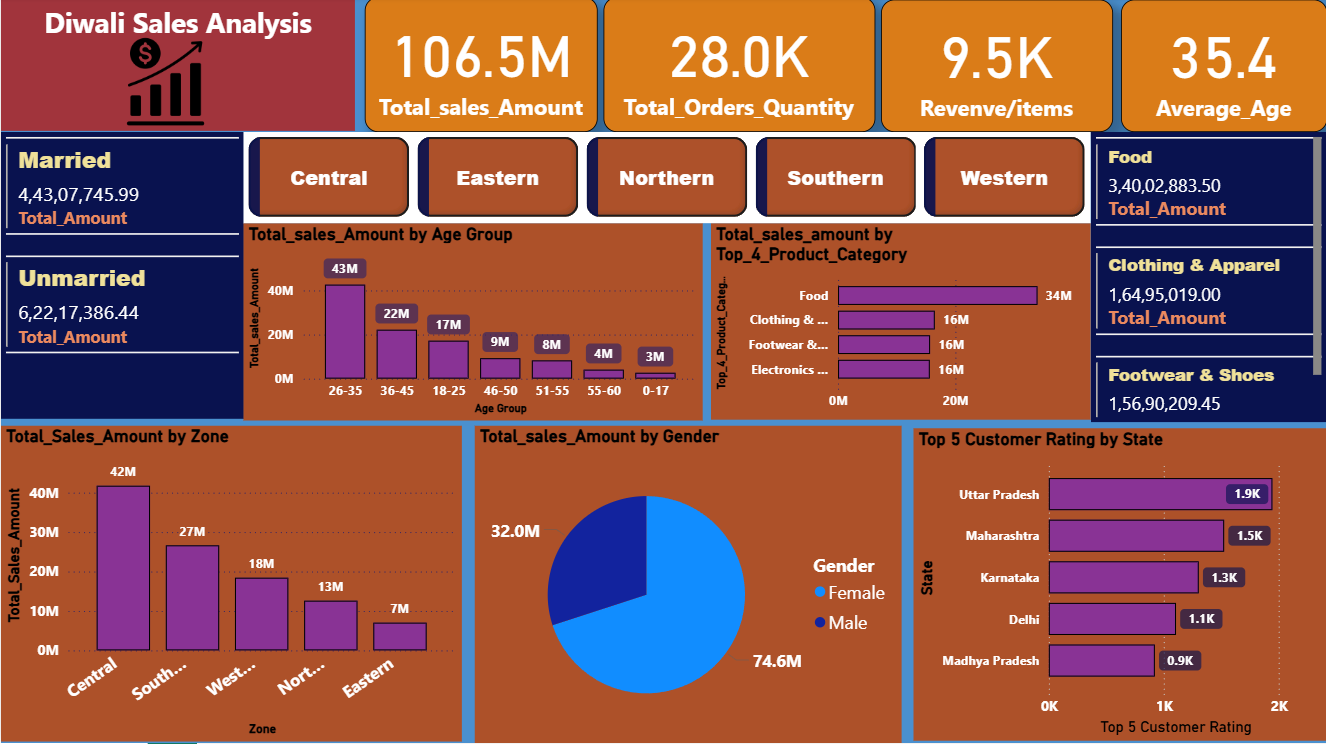

The dashboard page shown, as its layout file describes it:
{"tool":"powerbi","page":{"name":"Dewali Sales Analysis","canvas":[1280,720],"ordinal":0},"visuals":[{"type":"group","id":"g1","title":"Group 1","box":[351,0,721.8,130.4],"z":0},{"type":"card","fields":{"Values":["Sum(Diwali Sales Data.Amount)"]},"box":[351,0,225,130.4],"z":0,"group":"g1"},{"type":"clusteredBarChart","fields":{"Category":["Diwali Sales Data.State"],"Y":["CountNonNull(Diwali Sales Data.Customer Rating)"]},"box":[881,416.8,399.3,301.9],"z":0,"group":"g2"},{"type":"card","fields":{"Values":["Sum(Diwali Sales Data.Orders Quantity)"]},"box":[581.6,0,262.1,130.4],"z":1000,"group":"g1"},{"type":"card","fields":{"Values":["Avg(Diwali Sales Data.Age)"]},"box":[1081.3,2.7,199,127.6],"z":1000},{"type":"pieChart","fields":{"Category":["Diwali Sales Data.Gender"],"Y":["Sum(Diwali Sales Data.Amount)"]},"box":[456.9,414.1,411.7,307.4],"z":1000,"group":"g2"},{"type":"card","fields":{"Values":["Diwali Sales Data.Revenve/items"]},"box":[849.2,2.7,223.7,127.6],"z":2000,"group":"g1"},{"type":"group","id":"g2","title":"Group 2","box":[0,414.1,1280.3,307.4],"z":2000},{"type":"columnChart","fields":{"Category":["Diwali Sales Data.Zone"],"Y":["Sum(Diwali Sales Data.Amount)"]},"box":[0,414.6,444.6,304.6],"z":2000,"group":"g2"},{"type":"multiRowCard","fields":{"Values":["Diwali Sales Data.Marital_Status","Sum(Diwali Sales Data.Amount)"]},"box":[0,130.4,234.6,277.2],"z":3000},{"type":"multiRowCard","fields":{"Values":["Sum(Diwali Sales Data.Amount)","Diwali Sales Data.Product_Category"]},"box":[1052.5,130.4,227.8,279.9],"z":4000},{"type":"lineStackedColumnComboChart","fields":{"Category":["Diwali Sales Data.Age Group"],"Y":["Sum(Diwali Sales Data.Amount)"]},"box":[234.6,218.2,443.2,190],"z":5000},{"type":"clusteredBarChart","fields":{"Category":["Diwali Sales Data.Product_Category"],"Y":["Sum(Diwali Sales Data.Amount)"]},"box":[685.3,218.4,366.8,189.4],"z":6000},{"type":"advancedSlicerVisual","fields":{"Values":["Diwali Sales Data.Zone"]},"box":[234.6,130.4,817.8,87.8],"z":7000},{"type":"textbox","box":[0,1.4,341.7,127.6],"z":8000},{"type":"image","box":[20.6,34.3,277.2,96.1],"z":9000}]}

Visuals, with their boxes in screenshot pixels (x1, y1, x2, y2), scaled from the page's 1280x720 canvas onto the 1326x744 screenshot:
"Group 1" group: rect(364, 0, 1111, 135)
card - Sum(Diwali Sales Data.Amount): rect(364, 0, 597, 135)
clusteredBarChart - Diwali Sales Data.State x CountNonNull(Diwali Sales Data.Customer Rating): rect(913, 431, 1325, 743)
card - Sum(Diwali Sales Data.Orders Quantity): rect(603, 0, 874, 135)
card - Avg(Diwali Sales Data.Age): rect(1120, 3, 1325, 135)
pieChart - Diwali Sales Data.Gender x Sum(Diwali Sales Data.Amount): rect(473, 428, 900, 743)
card - Diwali Sales Data.Revenve/items: rect(880, 3, 1111, 135)
"Group 2" group: rect(0, 428, 1325, 743)
columnChart - Diwali Sales Data.Zone x Sum(Diwali Sales Data.Amount): rect(0, 428, 461, 743)
multiRowCard - Diwali Sales Data.Marital_Status x Sum(Diwali Sales Data.Amount): rect(0, 135, 243, 421)
multiRowCard - Sum(Diwali Sales Data.Amount) x Diwali Sales Data.Product_Category: rect(1090, 135, 1325, 424)
lineStackedColumnComboChart - Diwali Sales Data.Age Group x Sum(Diwali Sales Data.Amount): rect(243, 225, 702, 422)
clusteredBarChart - Diwali Sales Data.Product_Category x Sum(Diwali Sales Data.Amount): rect(710, 226, 1090, 421)
advancedSlicerVisual - Diwali Sales Data.Zone: rect(243, 135, 1090, 225)
textbox: rect(0, 1, 354, 133)
image: rect(21, 35, 309, 135)
